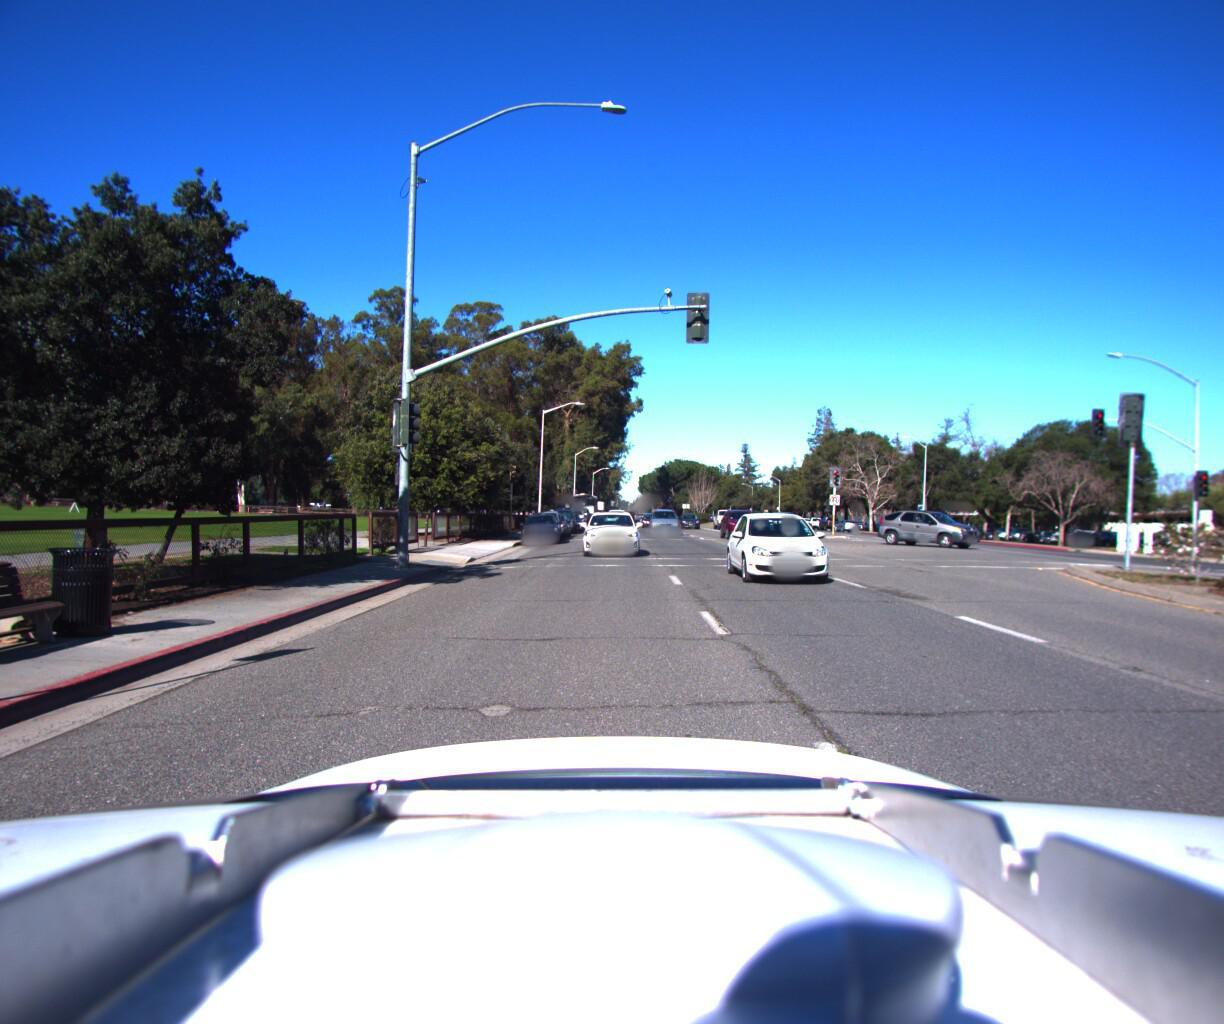bus: (565, 489, 600, 528)
car: (727, 506, 854, 592), (884, 507, 1005, 552), (579, 505, 642, 557), (755, 507, 829, 551), (717, 505, 766, 538), (518, 510, 564, 545), (525, 508, 567, 542), (648, 505, 684, 534), (710, 506, 743, 529), (678, 510, 703, 528)
